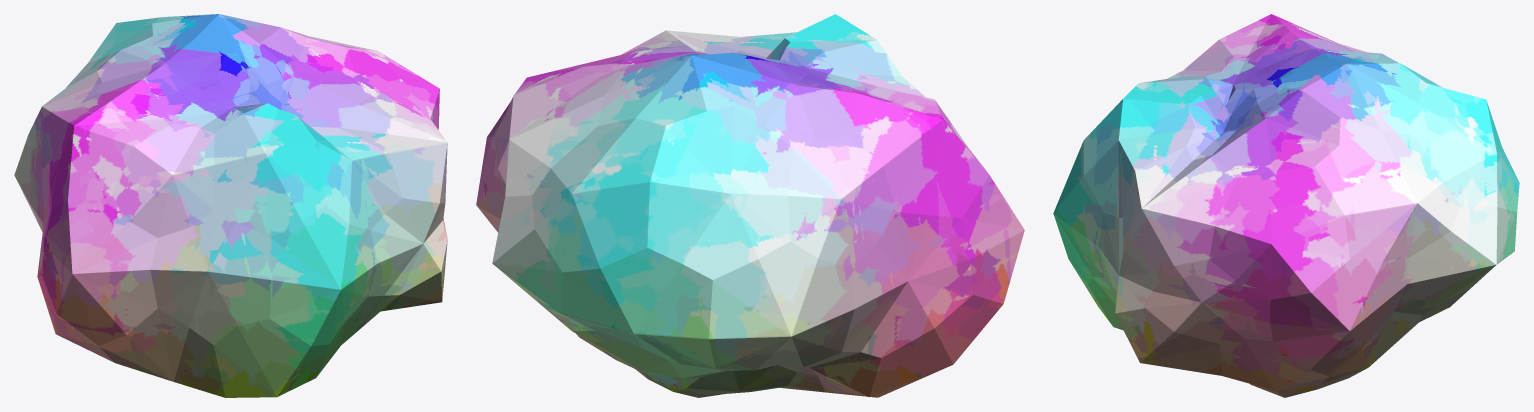
Rendered from RainbowRock2.glb.
3 renders of one model, left to right at view 1: azimuth 30°, elevation 25°; view 2: azimuth 150°, elevation 25°; view 3: azimuth 270°, elevation 25°, orthographic. The views are drawn at different scales.
Parts seen in each view (by area): view 1: RainbowRock2; view 2: RainbowRock2; view 3: RainbowRock2.
Part boxes in pixels (x1,y1,x2,y2): RainbowRock2: (14, 14, 447, 397); RainbowRock2: (476, 14, 1024, 397); RainbowRock2: (1053, 14, 1519, 397).
Bounding box in the file's own units: 3.93 × 2.85 × 3.81.
Materials: 1 (1 with a texture image).
